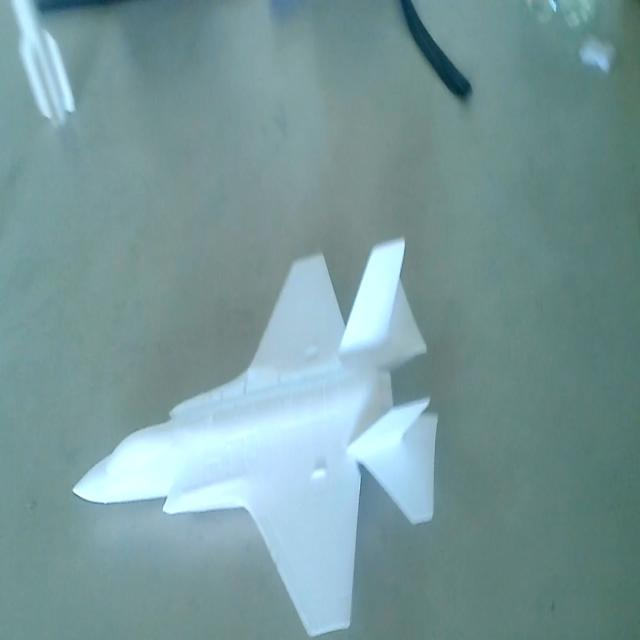Jet: (62, 228, 448, 640)
